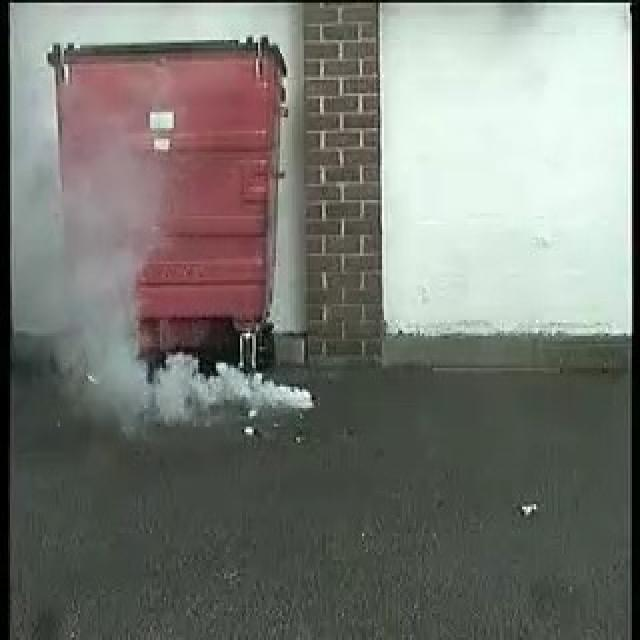smoke: (65, 326, 319, 418)
